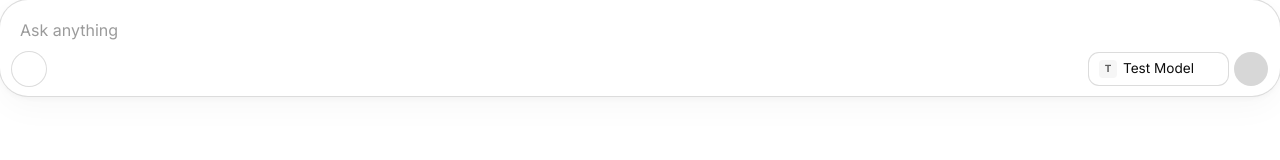
Test: MessageForm — mobile IME composition › never hides native text while composing, even with mention chips present
The image size is (1280, 160).
Type "@notes.md " into the text box with placeholder "Ask anything" at [640, 28], box [12,6,1268,50]
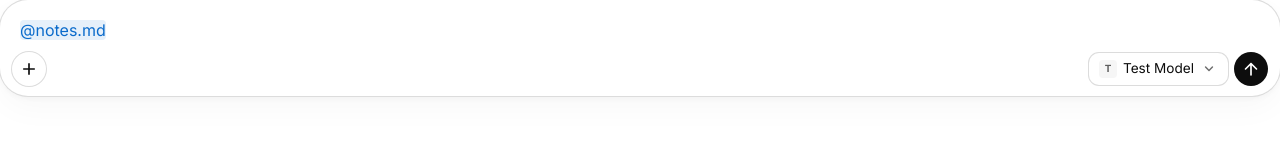
Check: the element with class "chat-mirror" is shown, box [20,20,106,40]
Replace the text in the text box with "@notes.md wor" at [640, 28], box [12,6,1268,50]
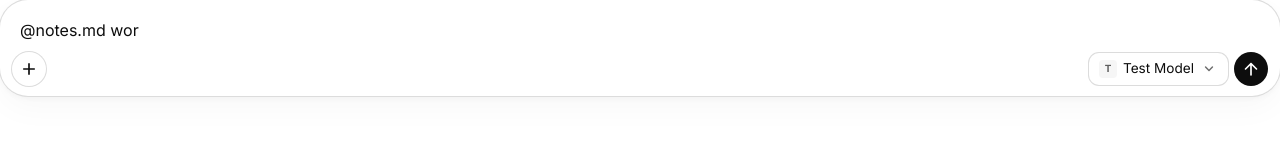
Replace the text in the text box with "@notes.md world " at [640, 28], box [12,6,1268,50]
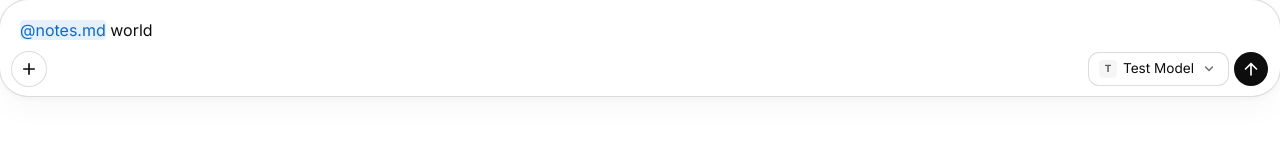
Check: the element with class "chat-mirror" is shown, box [20,20,157,40]
